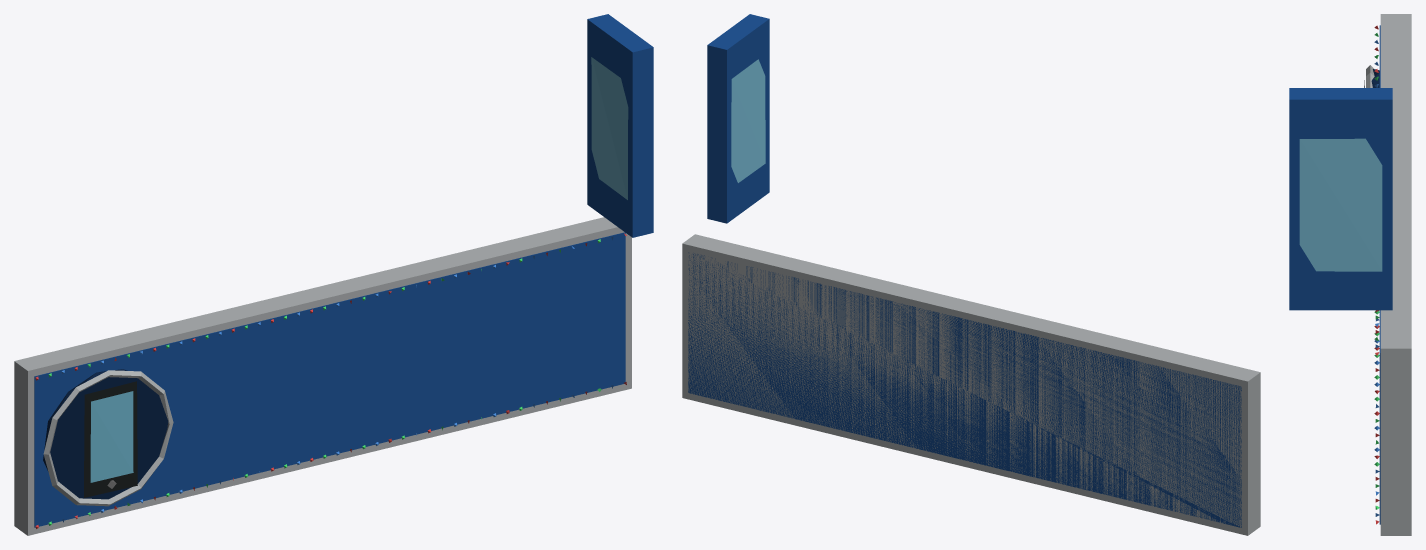
File: bang_sua_dien_thoai_tuan_48.glb
The picture shows the model from 3 angles, left to right: view 1: azimuth 30°, elevation 25°; view 2: azimuth 150°, elevation 25°; view 3: azimuth 270°, elevation 25°; orthographic projection. The views are drawn at different scales.
Visible parts, largest first — view 1: bang_sua_dien_thoai_tuan_48; view 2: bang_sua_dien_thoai_tuan_48; view 3: bang_sua_dien_thoai_tuan_48.
Boxes of the visible parts, x1,y1,x2,y2 form: bang_sua_dien_thoai_tuan_48: (14,14,653,535); bang_sua_dien_thoai_tuan_48: (682,14,1260,535); bang_sua_dien_thoai_tuan_48: (1289,14,1411,535).
Bounding box in the file's own units: 4.6 × 2.73 × 0.71.
